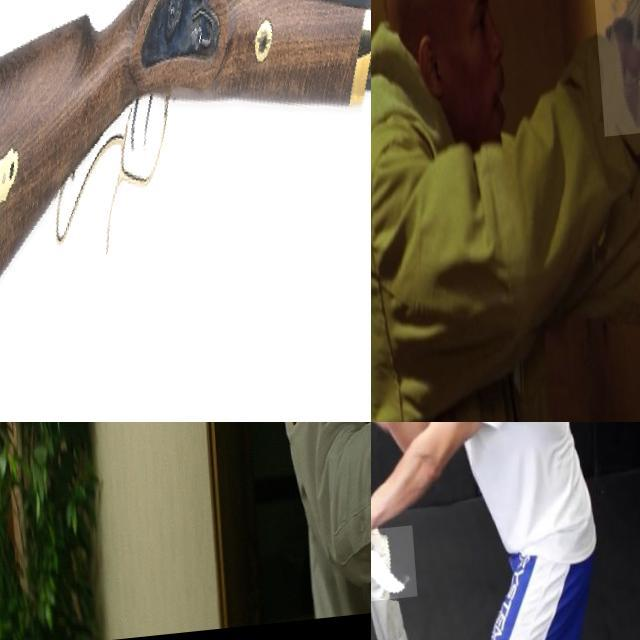-: (371, 532, 415, 610)
gun-knife-thesis - v11 Yolov5 augmented: (0, 0, 371, 422), (591, 0, 640, 142)
